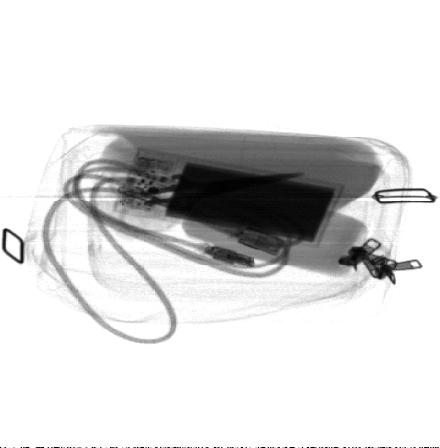Powerbank: (112, 147, 349, 250)
Scissors: (108, 162, 310, 239)
